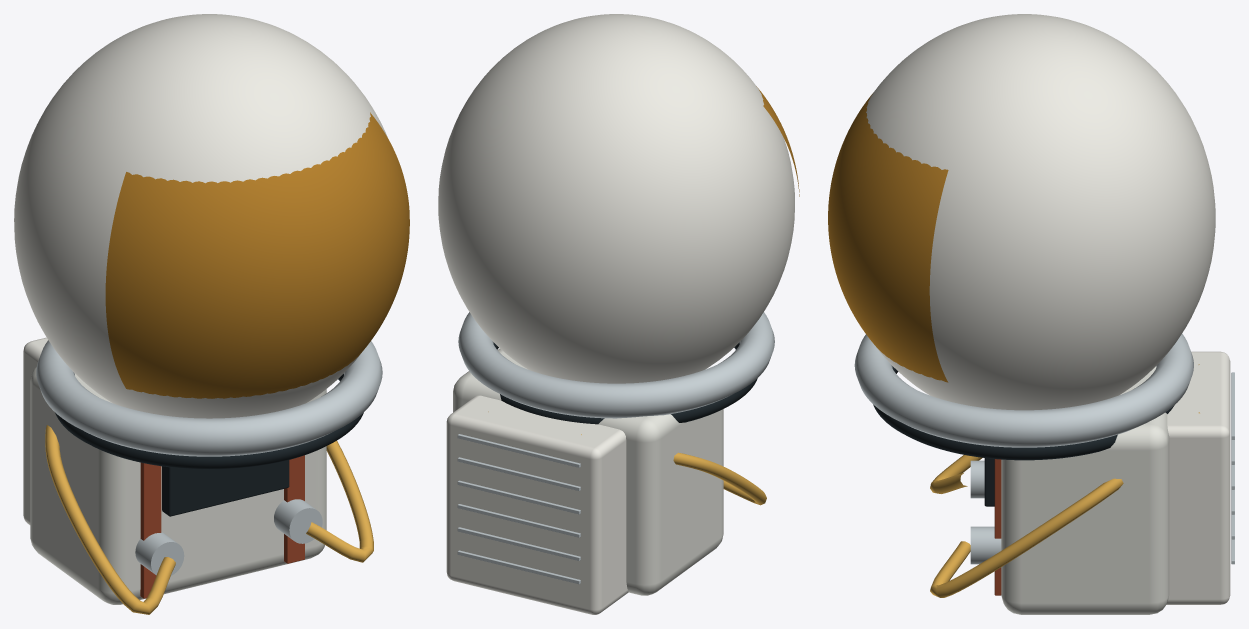
The model's file is suit.glb.
3 views of the same model, side by side, from view 1: azimuth 30°, elevation 25°; view 2: azimuth 150°, elevation 25°; view 3: azimuth 270°, elevation 25° (orthographic). The views are drawn at different scales.
Parts seen in each view (by area): view 1: Main assembly; view 2: Main assembly; view 3: Main assembly.
Part boxes in pixels (<box>): Main assembly: <box>14,14,409,614</box>; Main assembly: <box>438,14,799,614</box>; Main assembly: <box>828,14,1234,614</box>.
Bounding box in the file's own units: 1.32 × 2.04 × 1.4.
